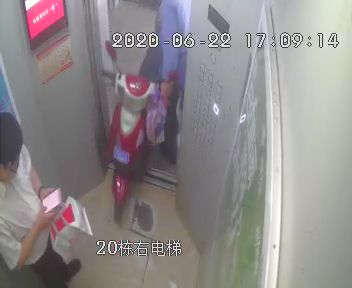Electric-bicycle: (99, 38, 178, 217)
